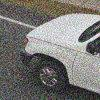cars: (18, 5, 100, 89)
